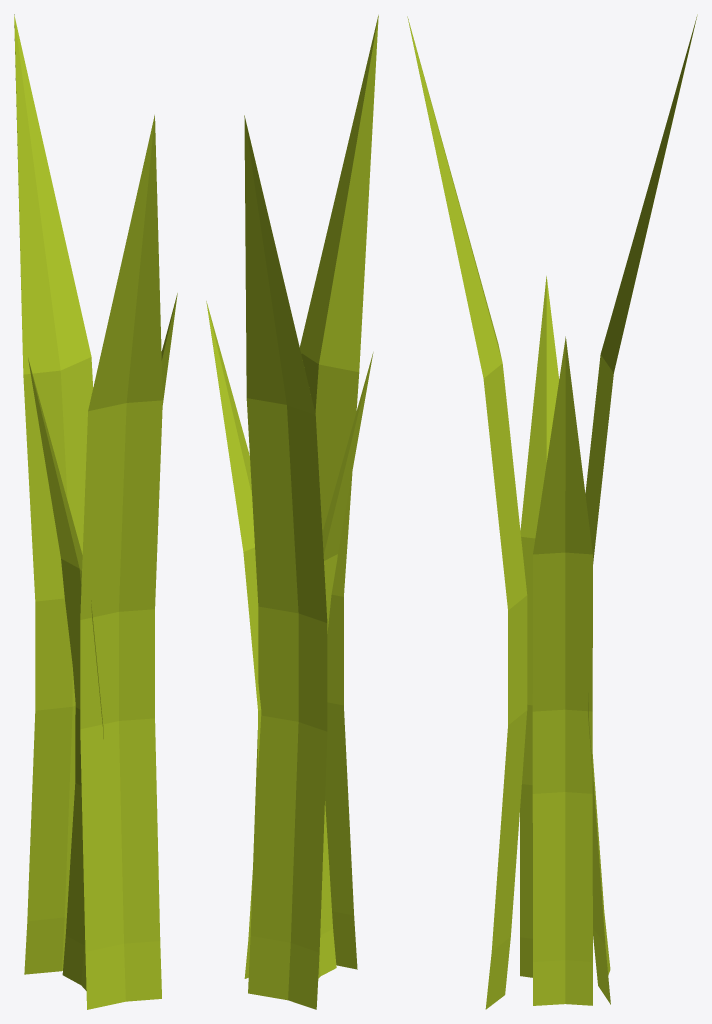
Rendered from grass2.fbx.
The picture shows the model from 3 angles, left to right: view 1: azimuth 30°, elevation 25°; view 2: azimuth 150°, elevation 25°; view 3: azimuth 270°, elevation 25°; orthographic projection. The views are drawn at different scales.
Visible parts, largest first — view 1: grass2; view 2: grass2; view 3: grass2.
Boxes of the visible parts, x1,y1,x2,y2 form: grass2: [14, 14, 177, 1009]; grass2: [206, 15, 378, 1009]; grass2: [407, 14, 697, 1009].
Bounding box in the file's own units: 7.77 × 43.06 × 11.67.
